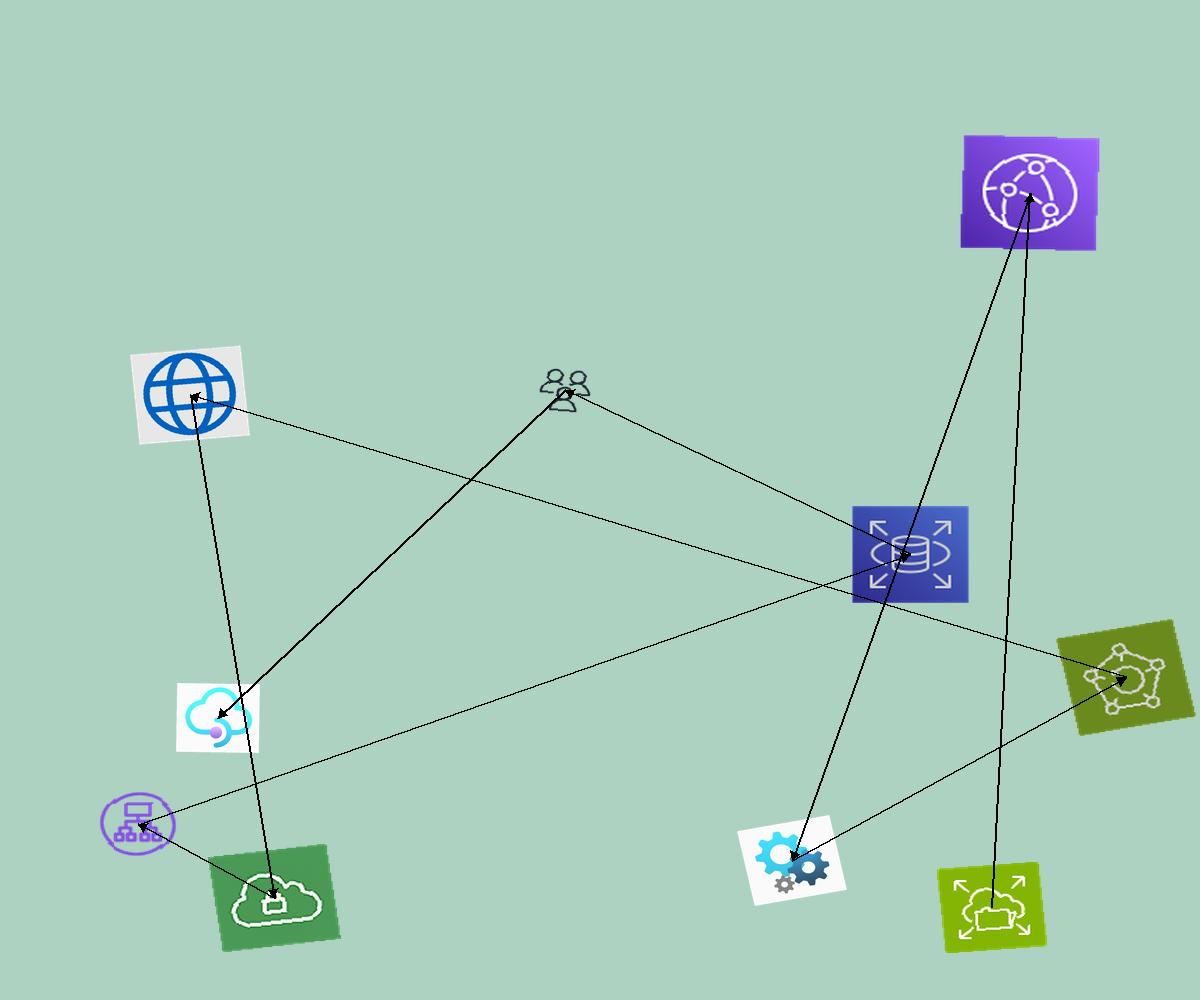AWS-Backup: (1055, 618, 1197, 737)
AWS-CloudFront: (959, 134, 1101, 252)
AWS-EFS: (936, 861, 1048, 954)
AWS-Private_vpc: (208, 843, 341, 953)
AWS-RDS: (851, 505, 970, 604)
AWS-Res_Elastic-Load-Balancing_Application-Load-Balancer: (95, 788, 181, 860)
AWS-Res_Users: (534, 365, 596, 416)
Azure_api: (737, 815, 847, 906)
Azure_api_gateway: (176, 683, 260, 753)
Azure_http: (130, 345, 250, 445)
